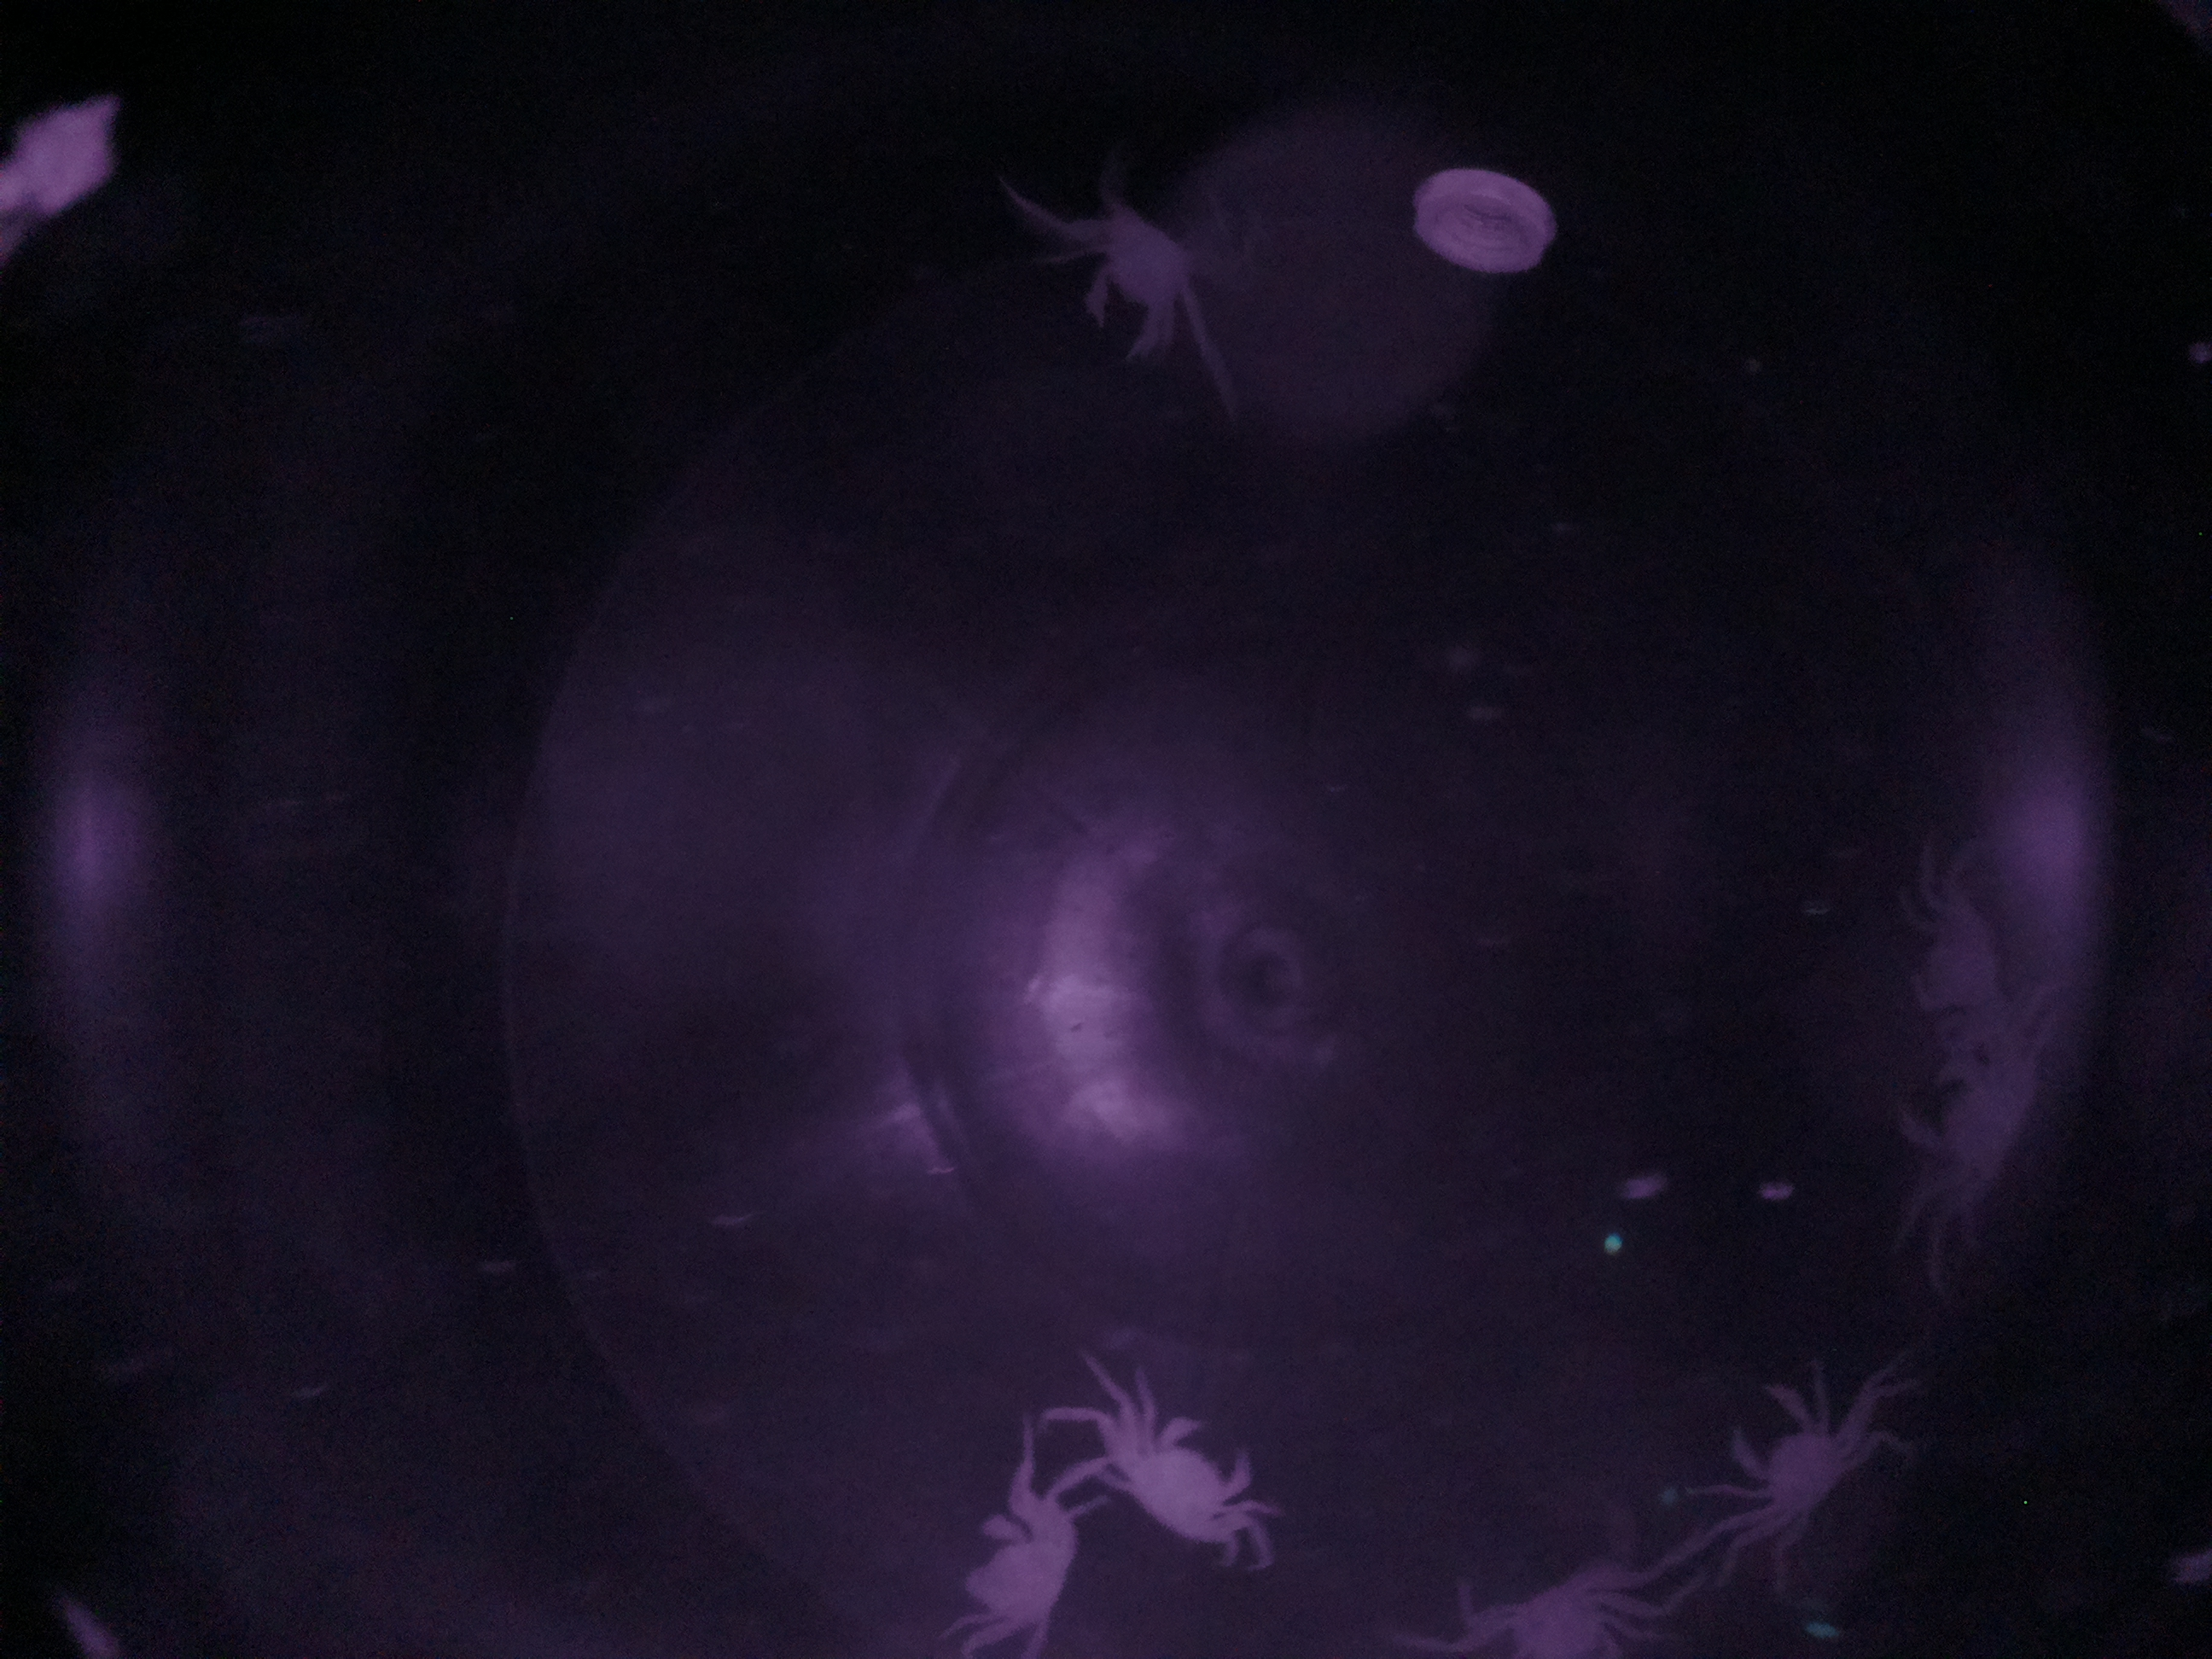Crab: (1096, 1396, 1278, 1560), (1717, 1361, 1872, 1544), (941, 1474, 1094, 1659)
